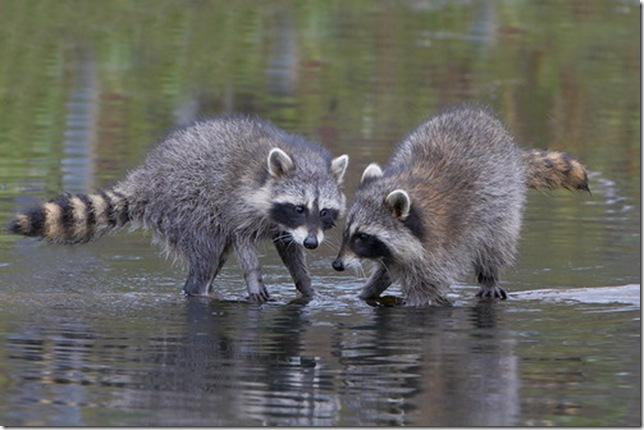raccoon: (6, 114, 347, 307), (330, 100, 591, 311)
